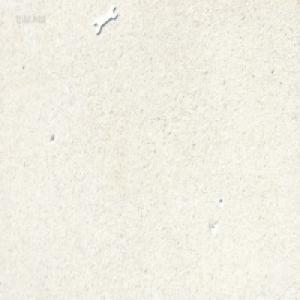Wrench: (93, 7, 116, 36)
